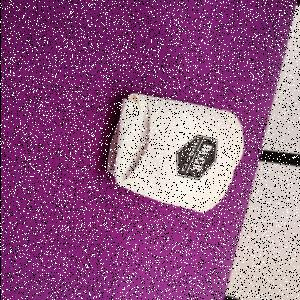Cup: (106, 93, 246, 215)
